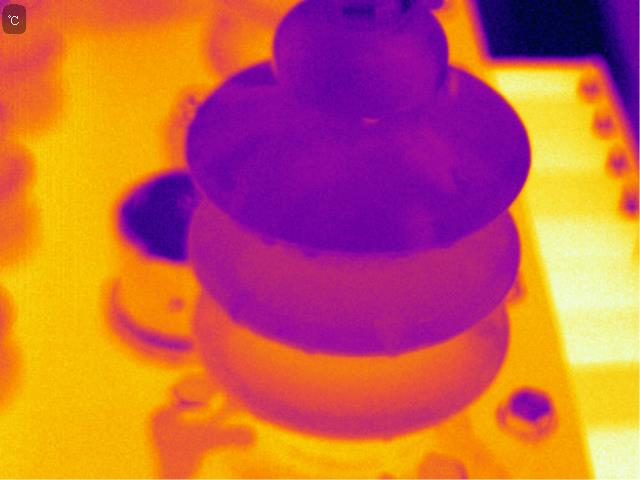Oil: (187, 81, 317, 171), (390, 118, 474, 195), (398, 202, 438, 256), (221, 282, 254, 333), (292, 239, 336, 269), (378, 324, 405, 366), (441, 61, 463, 104), (254, 228, 283, 256), (355, 114, 380, 133)
